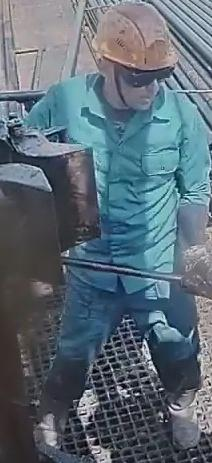gloves: (179, 236, 211, 300)
goggles: (117, 63, 175, 87)
helmet: (90, 0, 179, 71)
vest: (65, 75, 186, 299)
